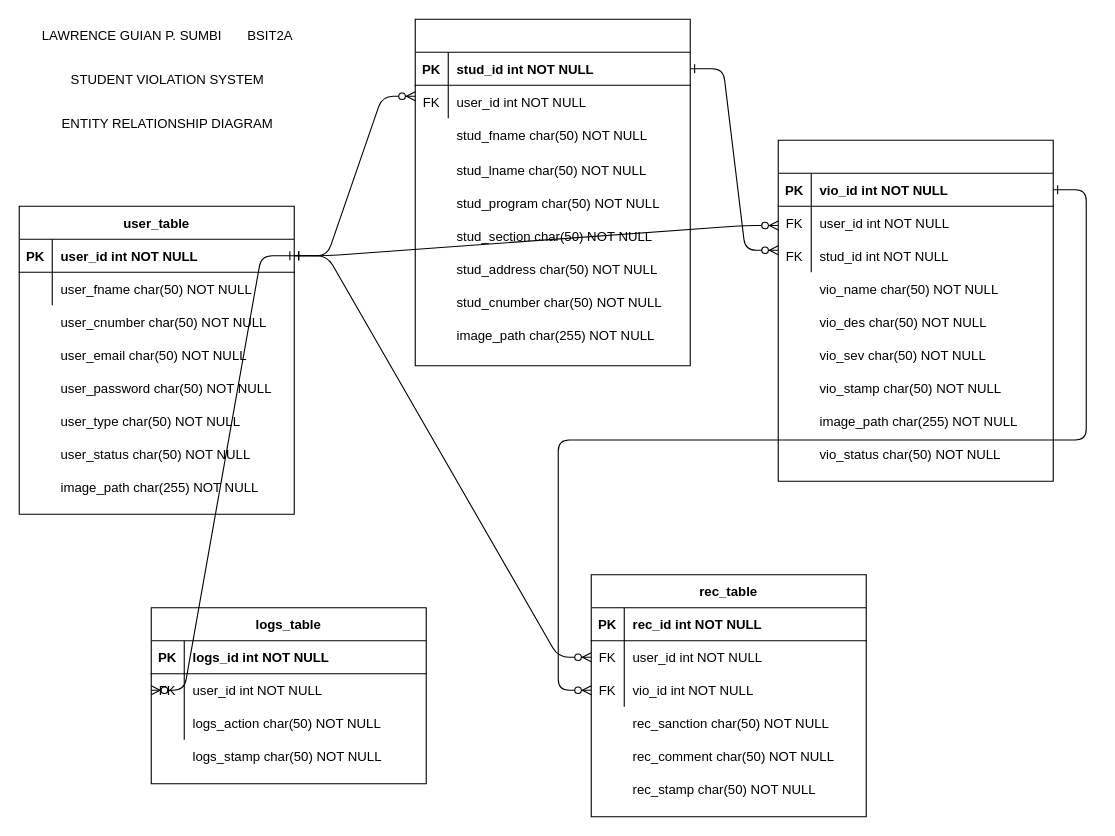
Image size: 1115x836. Some labels were removed from this diagram. Each missing label, with the box of its shape:
stud_table: (414, 18, 690, 366)
vio_table: (777, 139, 1053, 481)
